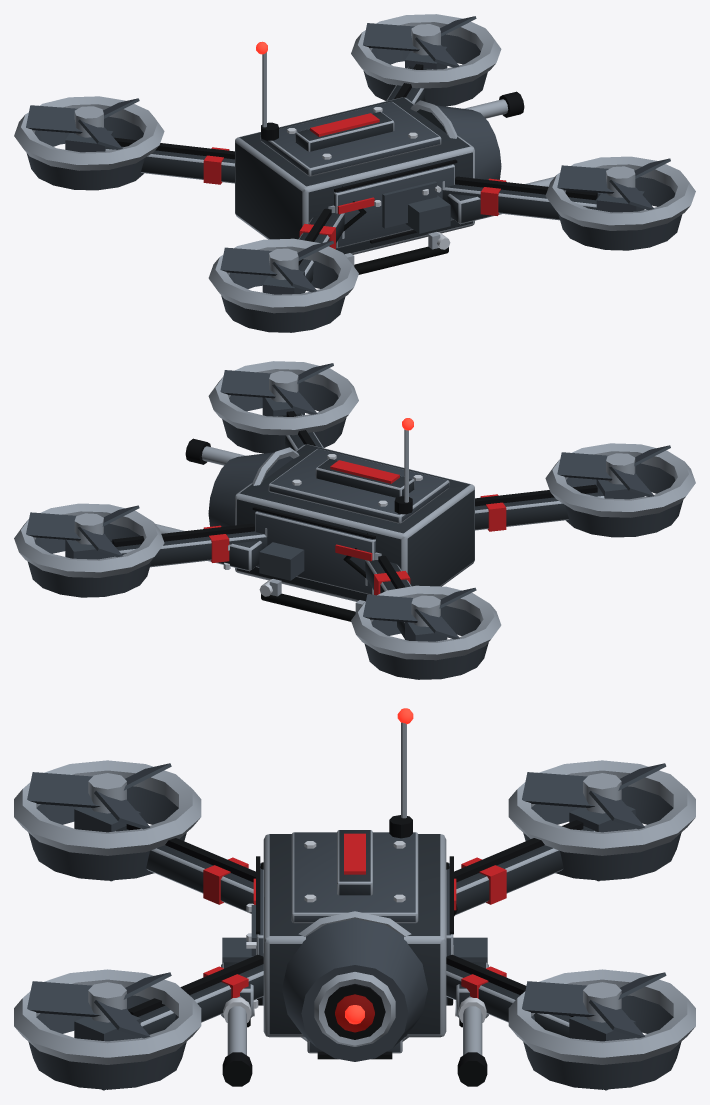
The model's file is enemigo_dron.glb.
3 views of the same model, one above another, from view 1: azimuth 30°, elevation 25°; view 2: azimuth 150°, elevation 25°; view 3: azimuth 270°, elevation 25° (orthographic). The views are drawn at different scales.
Parts seen in each view (by area): view 1: cuerpo, tapa_superior, ducto_labio_2, ducto_labio_3, ducto_labio_4, ducto_labio_1, placa_lateral_1, ducto_pared_2, ducto_pared_3, ducto_pared_4, ducto_pared_1, helice_3 (+22 smaller); view 2: cuerpo, tapa_superior, placa_lateral_2, ducto_labio_3, ducto_labio_1, ducto_labio_2, ducto_labio_4, ducto_pared_2, ducto_pared_3, ducto_pared_1, ducto_pared_4, helice_3 (+21 smaller); view 3: cuerpo, morro, tapa_superior, ducto_labio_1, ducto_labio_4, ducto_labio_2, ducto_labio_3, ducto_pared_1, ducto_pared_2, ducto_pared_3, ducto_pared_4, helice_4 (+29 smaller).
Part boxes in pixels (bbox=[...]): cuerpo: bbox=[235, 97, 474, 254]; tapa_superior: bbox=[260, 101, 441, 176]; ducto_labio_2: bbox=[14, 96, 164, 170]; ducto_labio_3: bbox=[208, 238, 358, 313]; ducto_labio_4: bbox=[545, 156, 695, 230]; ducto_labio_1: bbox=[351, 14, 501, 88]; placa_lateral_1: bbox=[334, 164, 454, 248]; ducto_pared_2: bbox=[26, 116, 144, 190]; ducto_pared_3: bbox=[221, 260, 345, 332]; ducto_pared_4: bbox=[558, 177, 682, 250]; ducto_pared_1: bbox=[363, 34, 487, 106]; helice_3: bbox=[220, 240, 333, 292]; cuerpo: bbox=[235, 444, 474, 601]; tapa_superior: bbox=[268, 448, 449, 523]; placa_lateral_2: bbox=[255, 511, 375, 594]; ducto_labio_3: bbox=[545, 443, 695, 517]; ducto_labio_1: bbox=[14, 503, 164, 577]; ducto_labio_2: bbox=[351, 585, 501, 660]; ducto_labio_4: bbox=[208, 361, 358, 435]; ducto_pared_2: bbox=[364, 606, 488, 679]; ducto_pared_3: bbox=[565, 463, 683, 537]; ducto_pared_1: bbox=[27, 523, 151, 597]; ducto_pared_4: bbox=[222, 381, 346, 453]; helice_3: bbox=[557, 445, 670, 496]; cuerpo: bbox=[263, 834, 446, 1037]; morro: bbox=[282, 919, 427, 1061]; tapa_superior: bbox=[291, 832, 418, 923]; ducto_labio_1: bbox=[508, 969, 695, 1064]; ducto_labio_4: bbox=[14, 969, 201, 1064]; ducto_labio_2: bbox=[508, 760, 695, 855]; ducto_labio_3: bbox=[14, 760, 201, 855]; ducto_pared_1: bbox=[523, 995, 681, 1089]; ducto_pared_2: bbox=[523, 786, 681, 880]; ducto_pared_3: bbox=[28, 786, 186, 880]; ducto_pared_4: bbox=[28, 995, 186, 1089]; helice_4: bbox=[27, 972, 171, 1038].
Size of the model in its own units: 1.2 by 0.4914 by 1.19.
